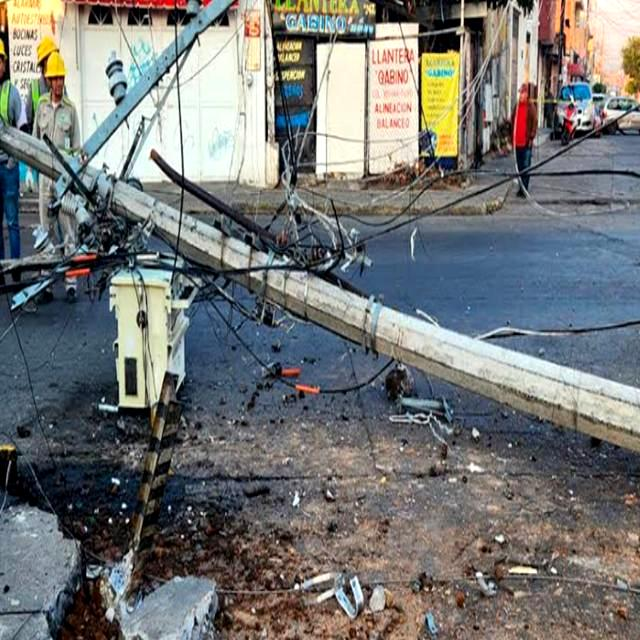Broken Pole: (0, 0, 638, 453)
